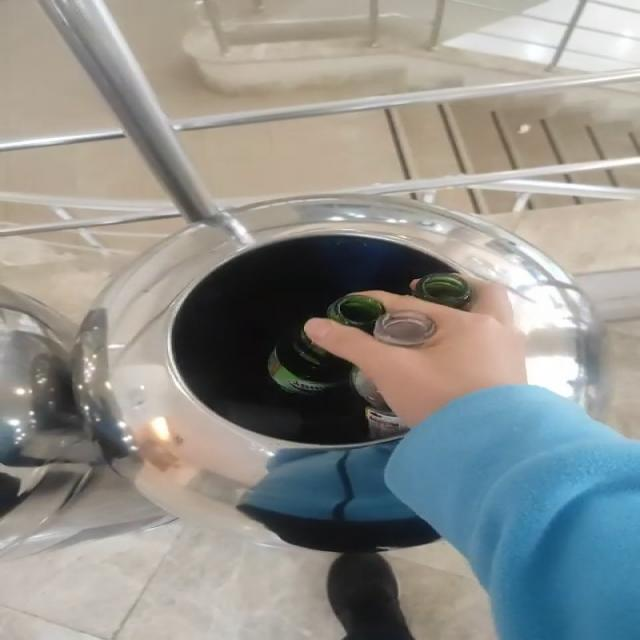glass: (268, 326, 408, 440), (325, 294, 435, 347), (268, 327, 352, 396), (325, 294, 436, 346), (351, 369, 408, 440), (412, 274, 471, 309), (439, 274, 469, 304)
